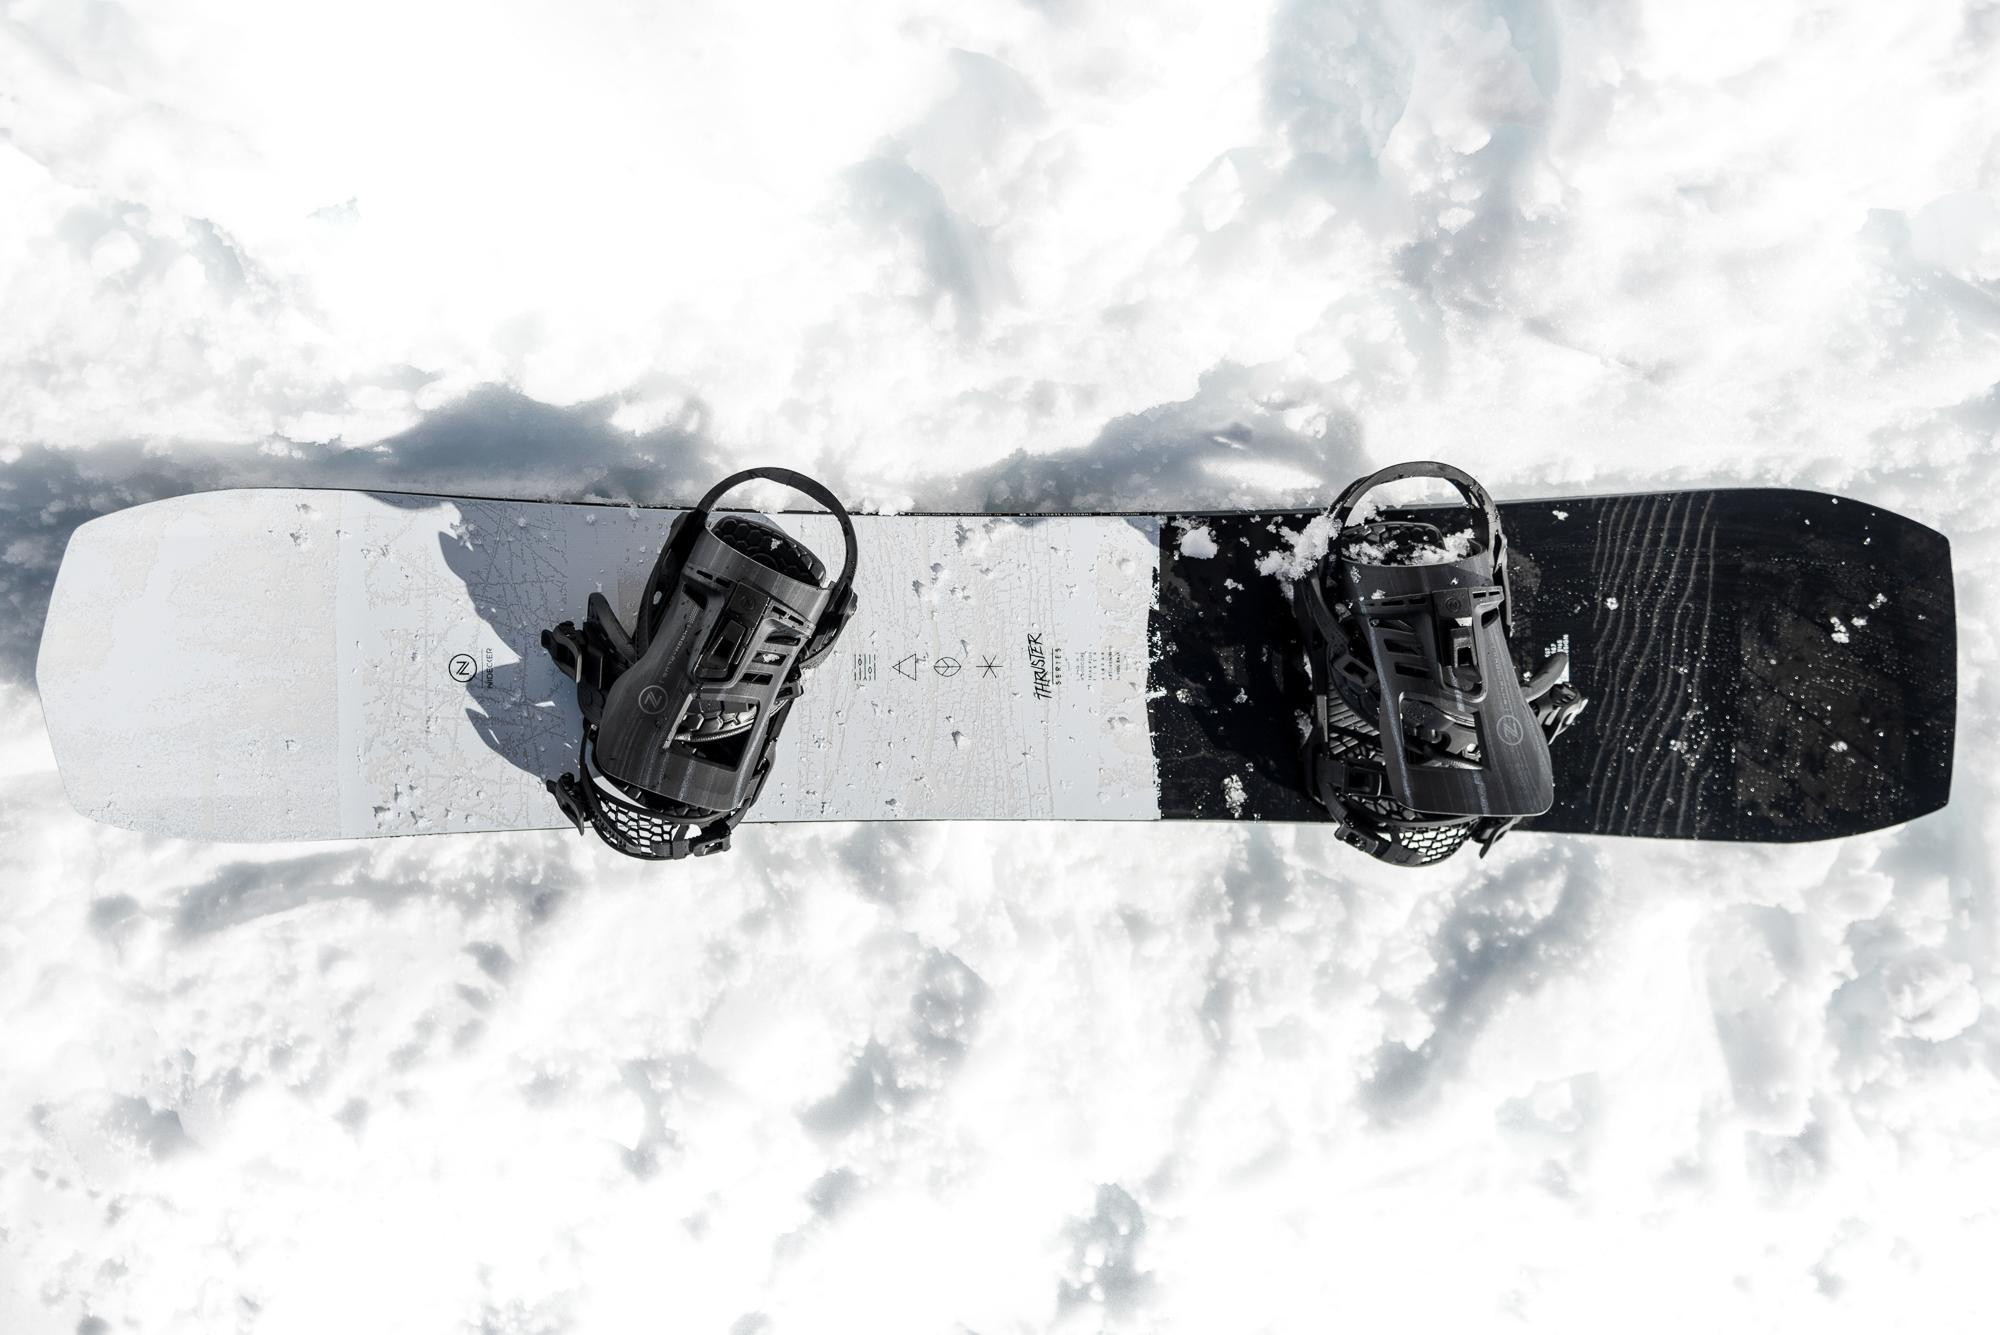Snowboard: (30, 454, 1958, 872)
